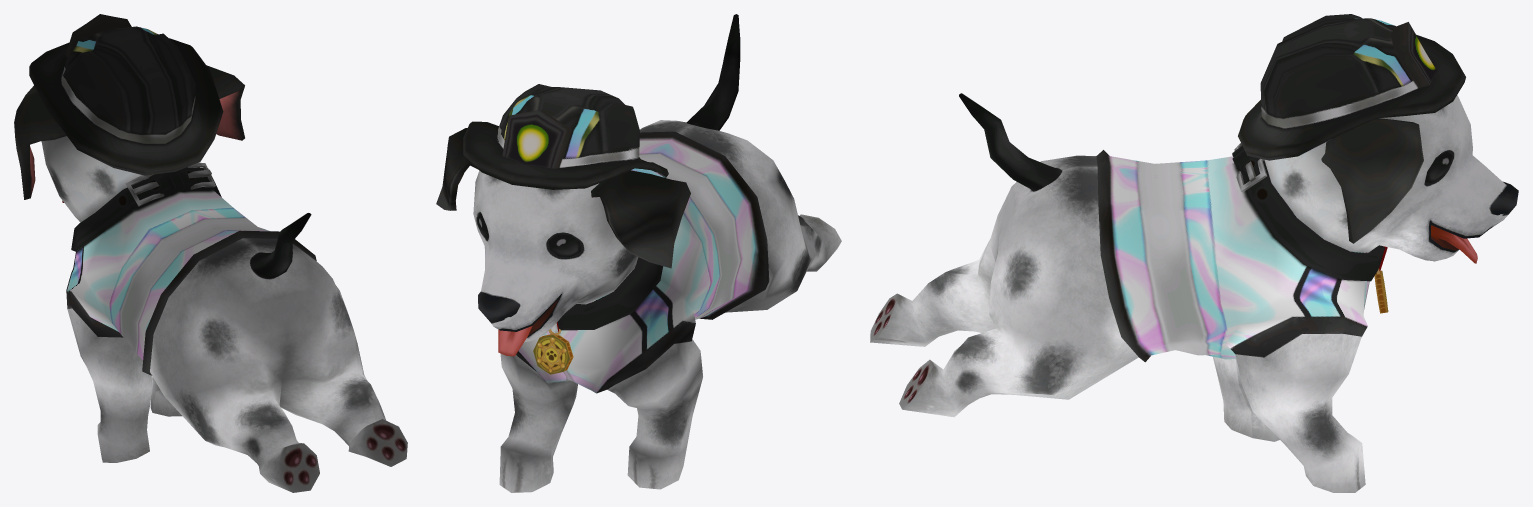
Rendered from mvr_pet2025firefighter-et05.glb.
The picture shows the model from 3 angles, left to right: view 1: azimuth 30°, elevation 25°; view 2: azimuth 150°, elevation 25°; view 3: azimuth 270°, elevation 25°; orthographic projection. The views are drawn at different scales.
Parts seen in each view (by area): view 1: MonsterMesh; view 2: MonsterMesh; view 3: MonsterMesh.
Boxes of the visible parts, bbox=[...] form: MonsterMesh: bbox=[14, 14, 407, 492]; MonsterMesh: bbox=[436, 14, 841, 492]; MonsterMesh: bbox=[870, 14, 1518, 492].
Size of the model in its own units: 0.3529 by 0.5666 by 0.7608.
1 material, 1 textured.
